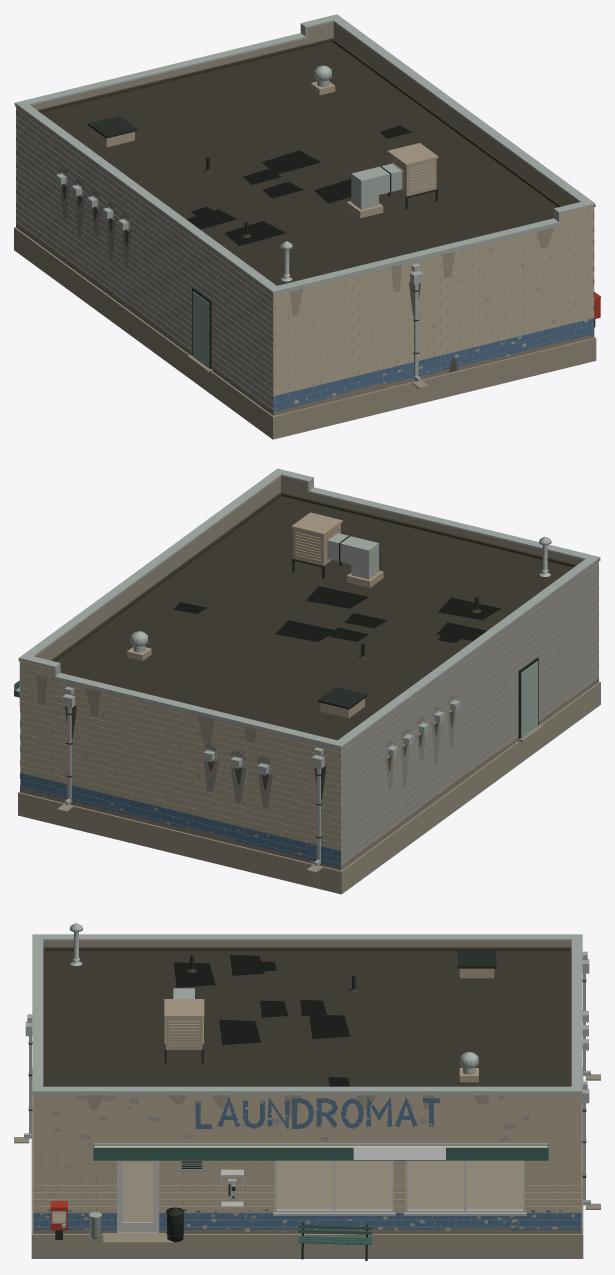
The model's file is SM_Town_Laundry_Shell.fbx.
The picture shows the model from 3 angles, top to bottom: view 1: azimuth 30°, elevation 25°; view 2: azimuth 150°, elevation 25°; view 3: azimuth 270°, elevation 25°; orthographic projection. The views are drawn at different scales.
Visible parts, largest first — view 1: SM_Town_Laundry_Shell; view 2: SM_Town_Laundry_Shell; view 3: SM_Town_Laundry_Shell.
Part boxes in pixels (x1,y1,x2,y2): SM_Town_Laundry_Shell: (14,14,600,439); SM_Town_Laundry_Shell: (14,468,600,894); SM_Town_Laundry_Shell: (14,923,600,1260).
Bounding box in the file's own units: 11.12 × 15.24 × 5.55.
